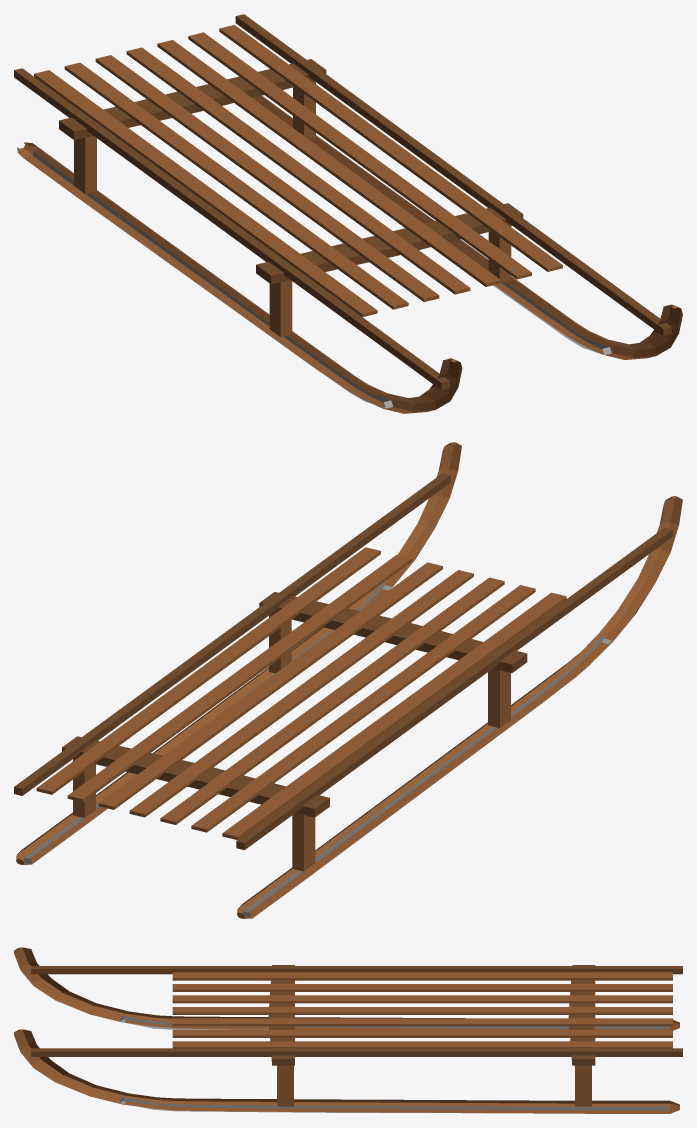
The model's file is sled_scene.glb.
3 views of the same model, one above another, from view 1: azimuth 30°, elevation 25°; view 2: azimuth 150°, elevation 25°; view 3: azimuth 270°, elevation 25° (orthographic). The views are drawn at different scales.
Parts seen in each view (by area): view 1: Node; view 2: Node; view 3: Node.
Part boxes in pixels (x1,y1,x2,y2): Node: (14,14,682,413); Node: (14,442,682,918); Node: (14,947,682,1113).
Bounding box in the file's own units: 0.9922 × 0.4079 × 2.99.
1 material, 1 textured.
